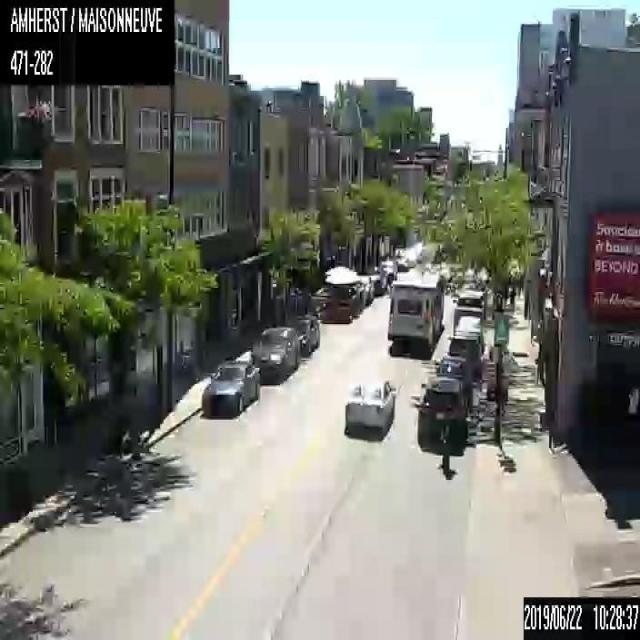bus: (387, 266, 445, 346)
pedestrian: (440, 404, 455, 479), (509, 285, 517, 312)
vehicle: (418, 376, 467, 447), (201, 360, 260, 417), (342, 375, 394, 436), (250, 327, 298, 382), (434, 352, 473, 400), (282, 314, 318, 356), (447, 333, 482, 375), (322, 284, 359, 322), (452, 290, 484, 322), (453, 315, 484, 345), (352, 276, 373, 305), (378, 260, 396, 282)
